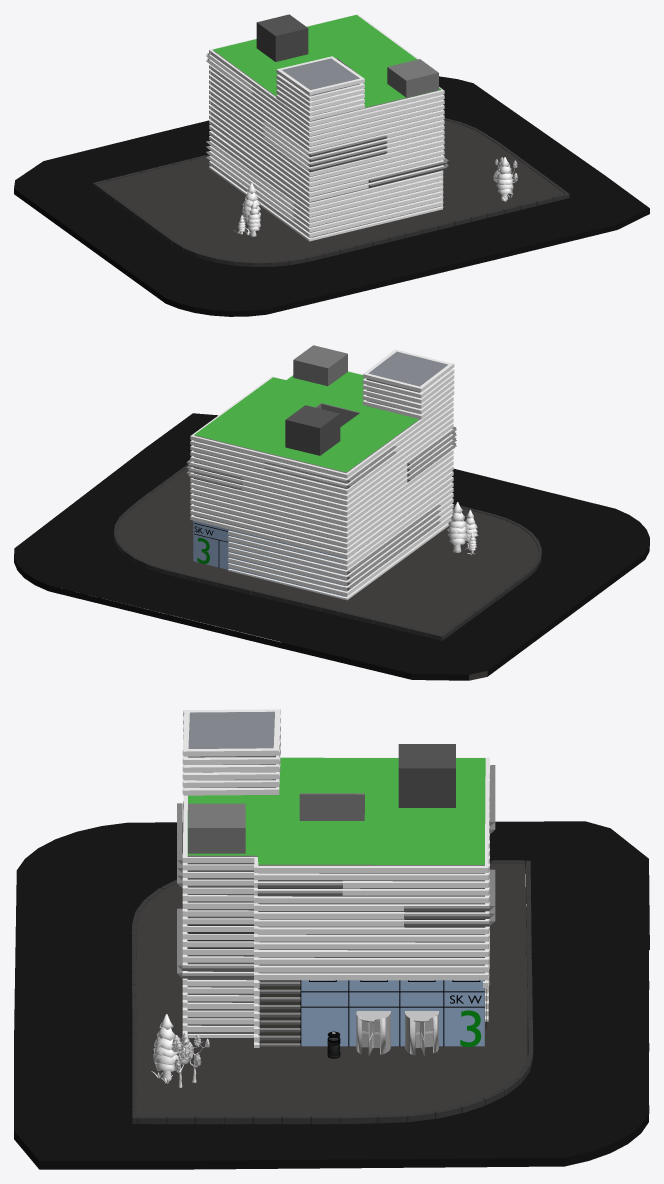
Rendered from FinalGeb3-transformed.glb.
3 renders of one model, top to bottom at view 1: azimuth 30°, elevation 25°; view 2: azimuth 150°, elevation 25°; view 3: azimuth 270°, elevation 25°, orthographic. The views are drawn at different scales.
Parts seen in each view (by area): view 1: Street FLF.001; view 2: Street FLF.001; view 3: Street FLF.001.
Boxes of the visible parts, x1,y1,x2,y2 form: Street FLF.001: (14, 14, 649, 316); Street FLF.001: (14, 345, 649, 680); Street FLF.001: (14, 709, 649, 1169).
Bounding box in the file's own units: 27.93 × 9.26 × 22.1.
